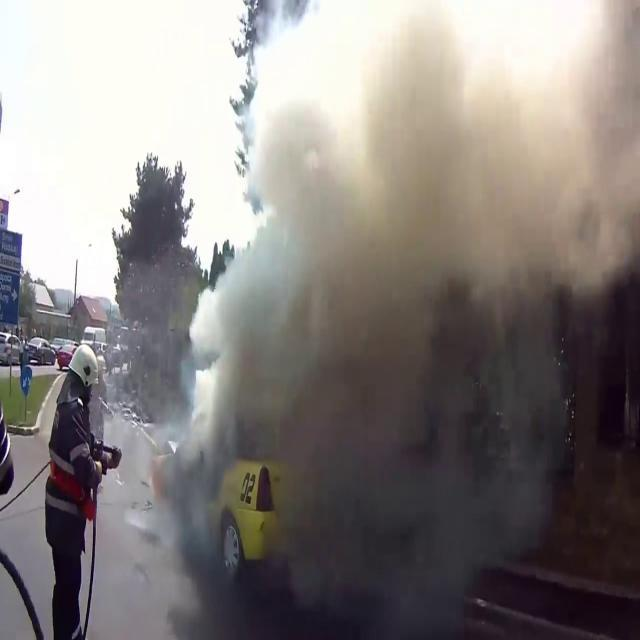Smoke: (145, 2, 640, 584)
